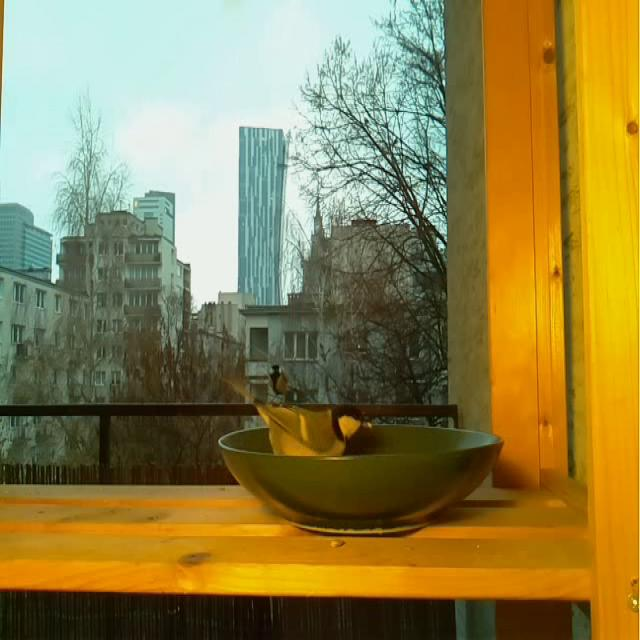Bogatka: (224, 377, 372, 460)
